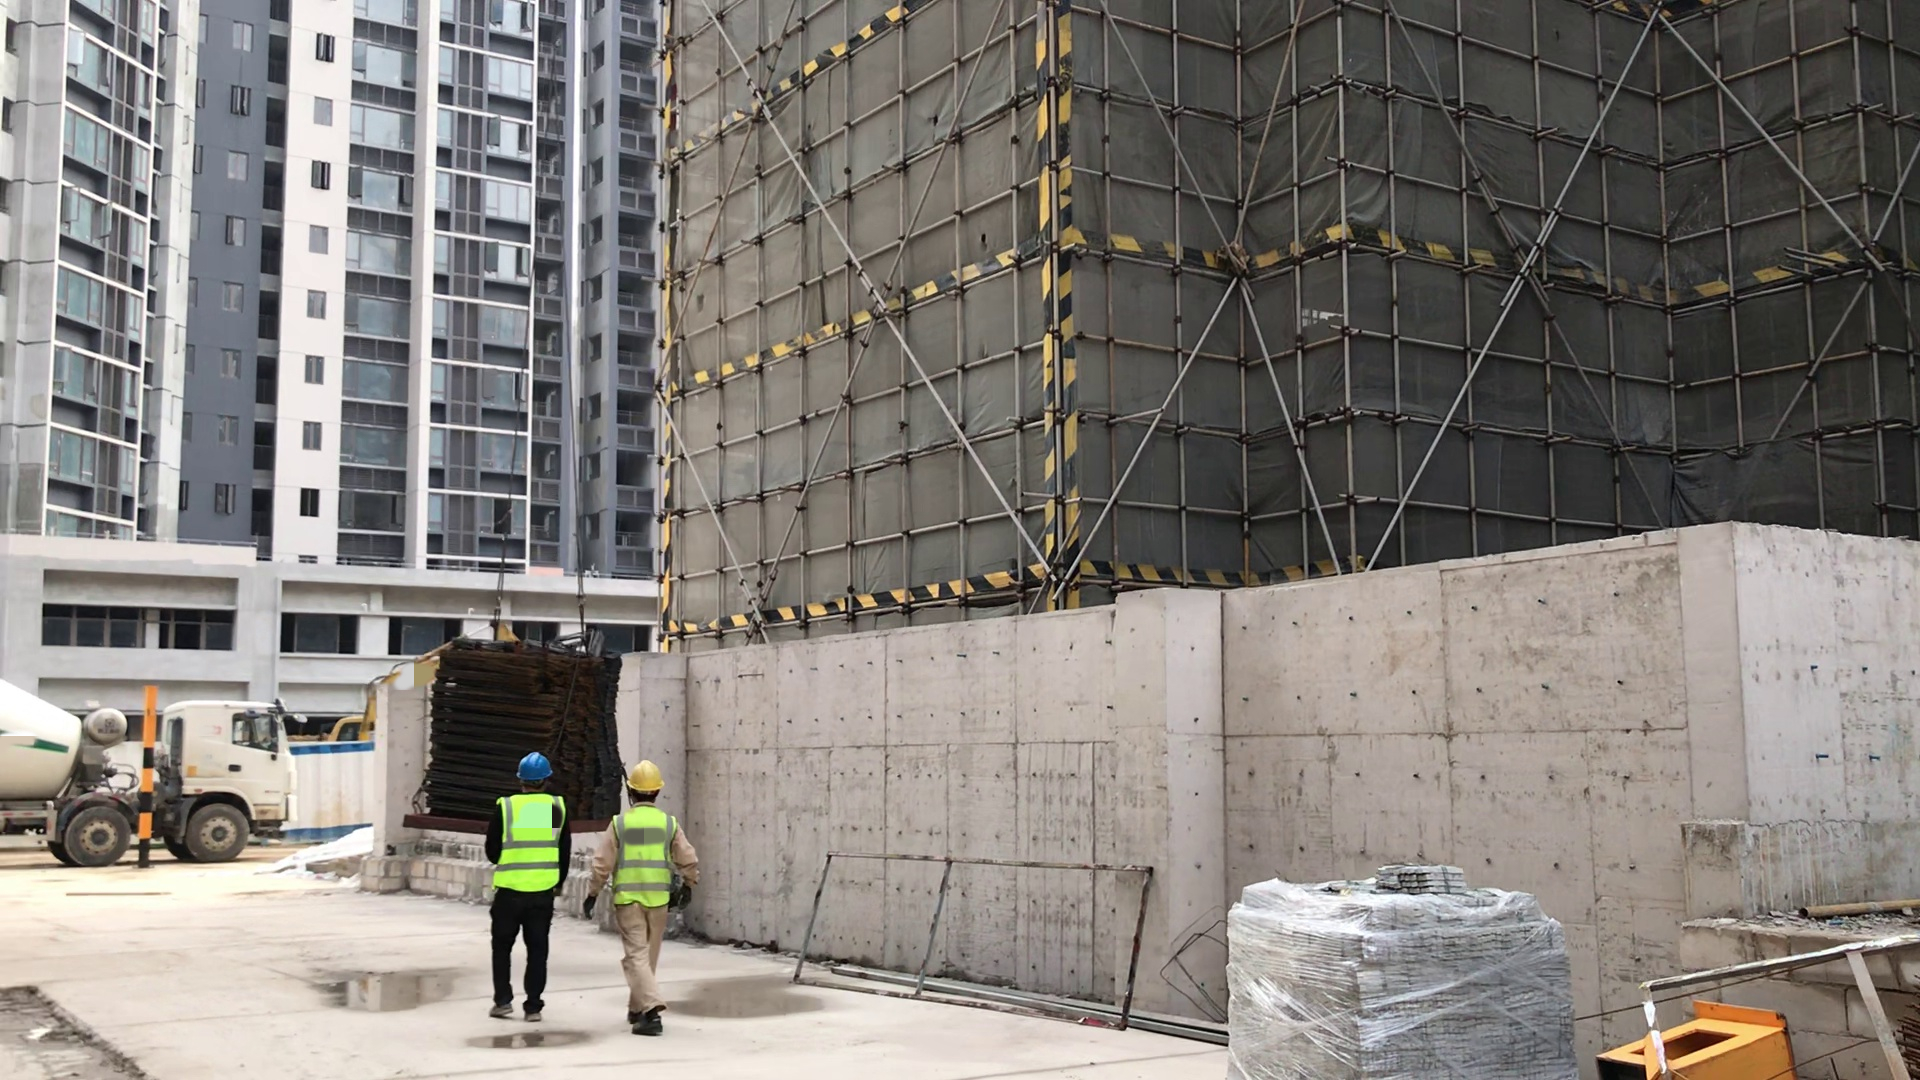helmet: (510, 739, 567, 784), (623, 758, 670, 796)
person: (592, 724, 715, 1048), (482, 745, 578, 1038)
vest: (607, 810, 683, 922), (493, 790, 565, 896)
